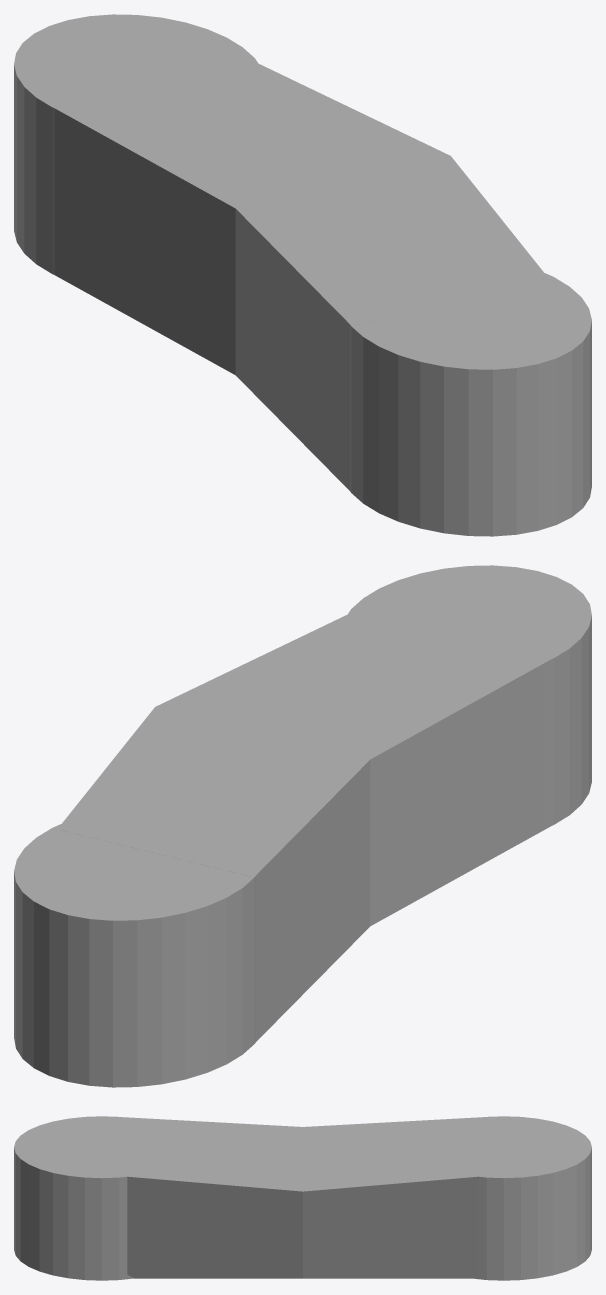
The model's file is EntreyDesk.fbx.
The picture shows the model from 3 angles, top to bottom: view 1: azimuth 30°, elevation 25°; view 2: azimuth 150°, elevation 25°; view 3: azimuth 270°, elevation 25°; orthographic projection. The views are drawn at different scales.
Parts seen in each view (by area): view 1: Cube.018; view 2: Cube.018; view 3: Cube.018.
Part boxes in pixels (x1,y1,x2,y2): Cube.018: [14, 14, 591, 536]; Cube.018: [14, 565, 591, 1087]; Cube.018: [14, 1116, 591, 1280].
Bounding box in the file's own units: 193 × 122 × 625.
Materials: 1 (1 with a texture image).
